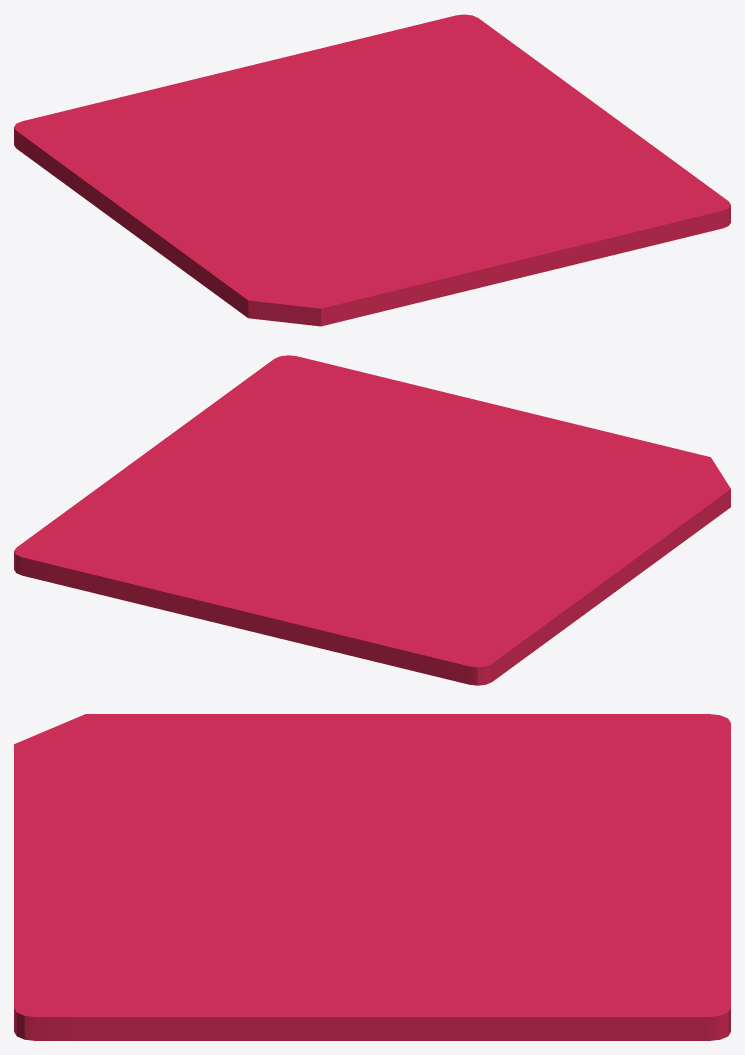
The model's file is E_FloppyDIsk.fbx.
The picture shows the model from 3 angles, top to bottom: view 1: azimuth 30°, elevation 25°; view 2: azimuth 150°, elevation 25°; view 3: azimuth 270°, elevation 25°; orthographic projection. The views are drawn at different scales.
Parts seen in each view (by area): view 1: E_FloppyDisk; view 2: E_FloppyDisk; view 3: E_FloppyDisk.
Boxes of the visible parts, box(x1,y1,x2,y2) form: E_FloppyDisk: box(14, 14, 730, 326); E_FloppyDisk: box(14, 355, 730, 685); E_FloppyDisk: box(14, 714, 730, 1040).
Bounding box in the file's own units: 1.44 × 0.0532 × 1.44.
